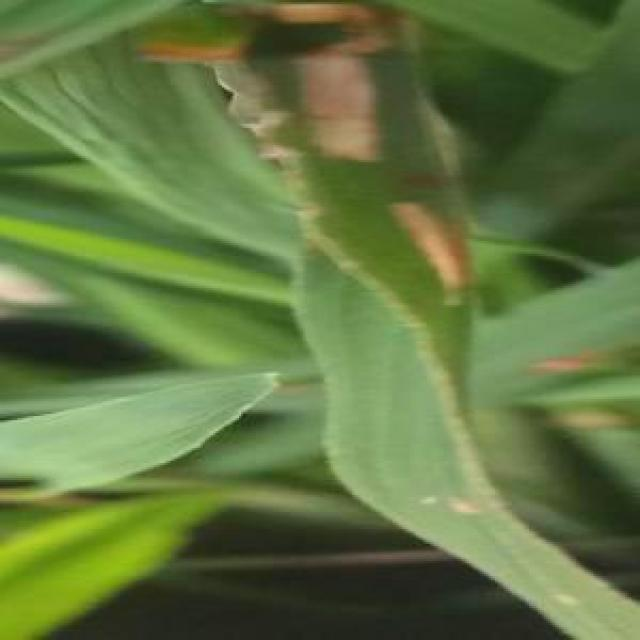Leaf_Blast: (277, 34, 412, 177), (376, 181, 482, 318)
